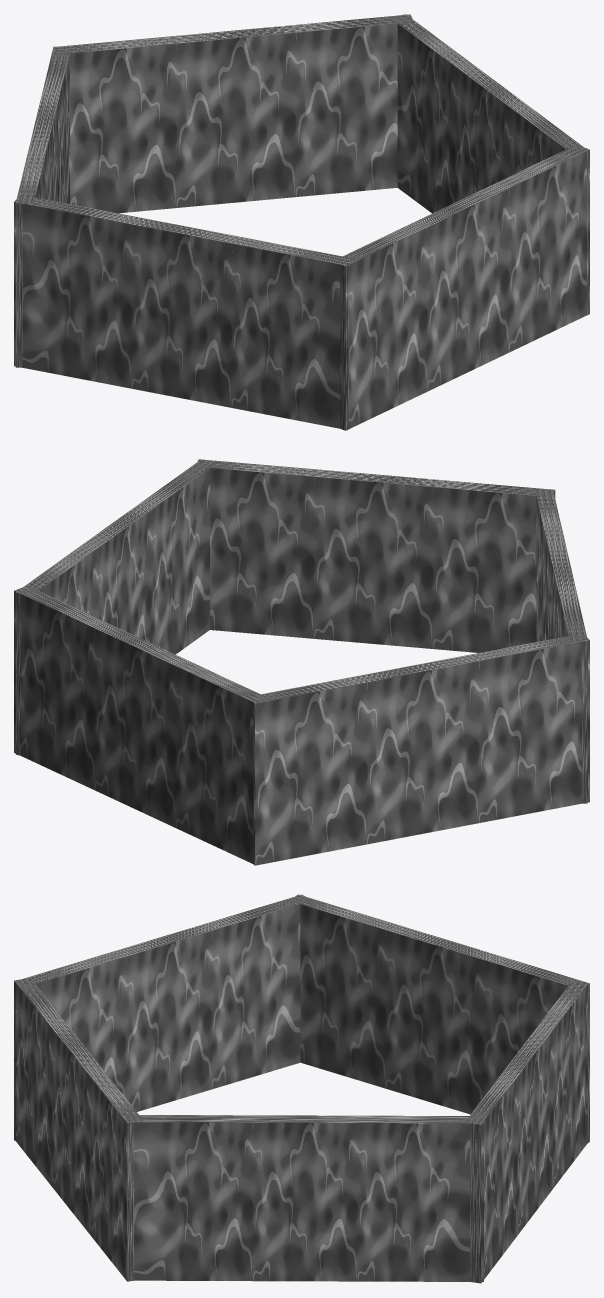
File: qiang02.FBX
3 views of the same model, one above another, from view 1: azimuth 30°, elevation 25°; view 2: azimuth 150°, elevation 25°; view 3: azimuth 270°, elevation 25° (orthographic). The views are drawn at different scales.
Parts seen in each view (by area): view 1: qiang; view 2: qiang; view 3: qiang.
Part boxes in pixels (x1,y1,x2,y2): qiang: [14, 14, 589, 430]; qiang: [14, 459, 589, 865]; qiang: [14, 894, 589, 1283].
Bounding box in the file's own units: 123 × 39.37 × 130.
